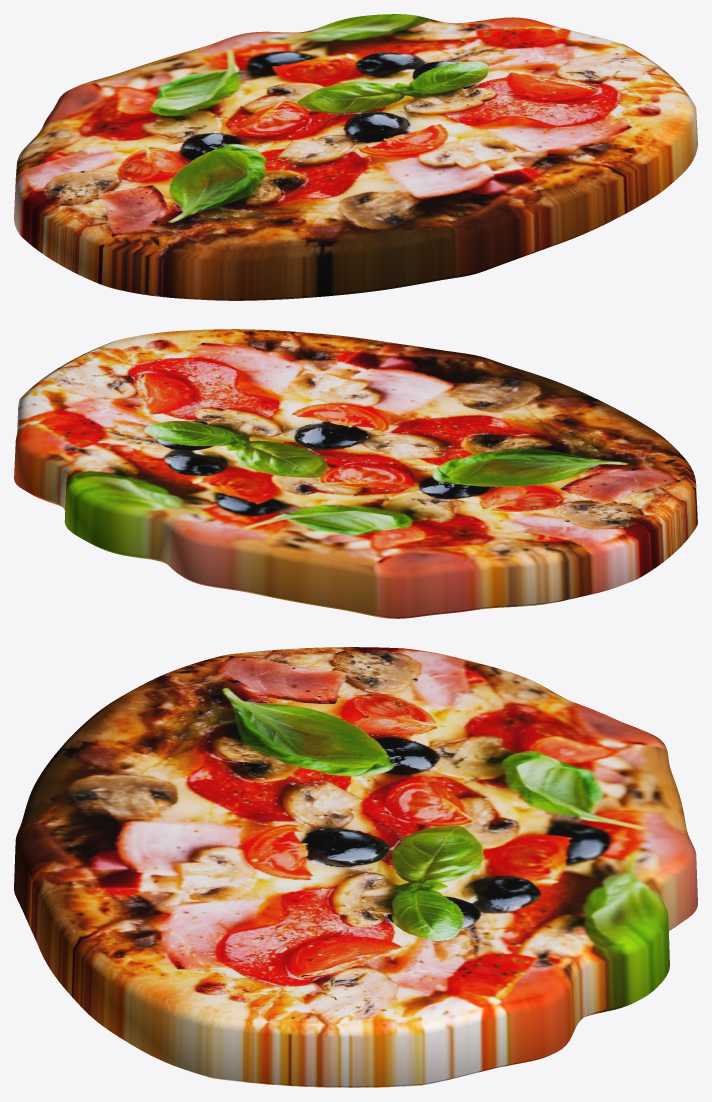
The model's file is pizza4k.glb.
3 views of the same model, one above another, from view 1: azimuth 30°, elevation 25°; view 2: azimuth 150°, elevation 25°; view 3: azimuth 270°, elevation 25° (orthographic). The views are drawn at different scales.
Size of the model in its own units: 0.2 by 0.0166 by 0.1477.
1 material, 1 textured.
